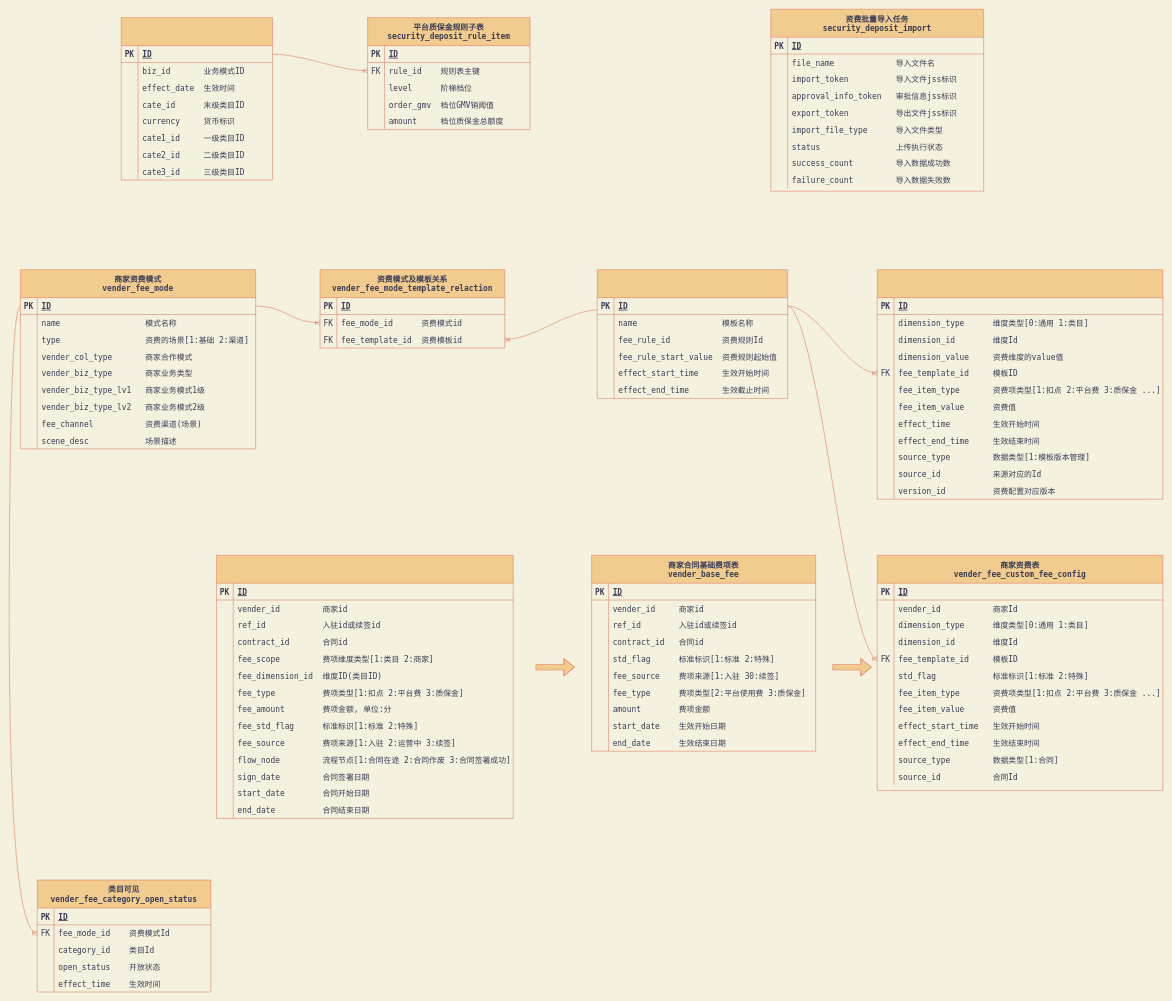
Some shapes in this 1172 by 1001 pixel diagram are drawn without their labels. Each missing label, with the box of its shape:
商家基础费项流程表 vender_flow_fee: (216, 555, 513, 818)
平台标准资费配置表 vender_fee_standard_fee_config: (877, 269, 1163, 499)
平台质保金规则主表 security_deposit_rule: (121, 17, 272, 180)
资费模板 vender_fee_template: (597, 269, 788, 398)
